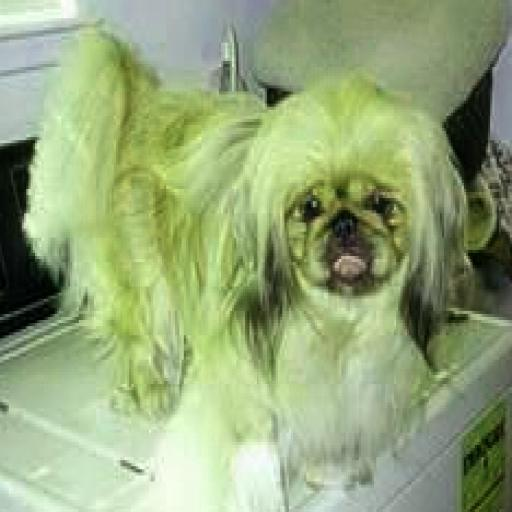dog_face: (250, 87, 455, 315)
